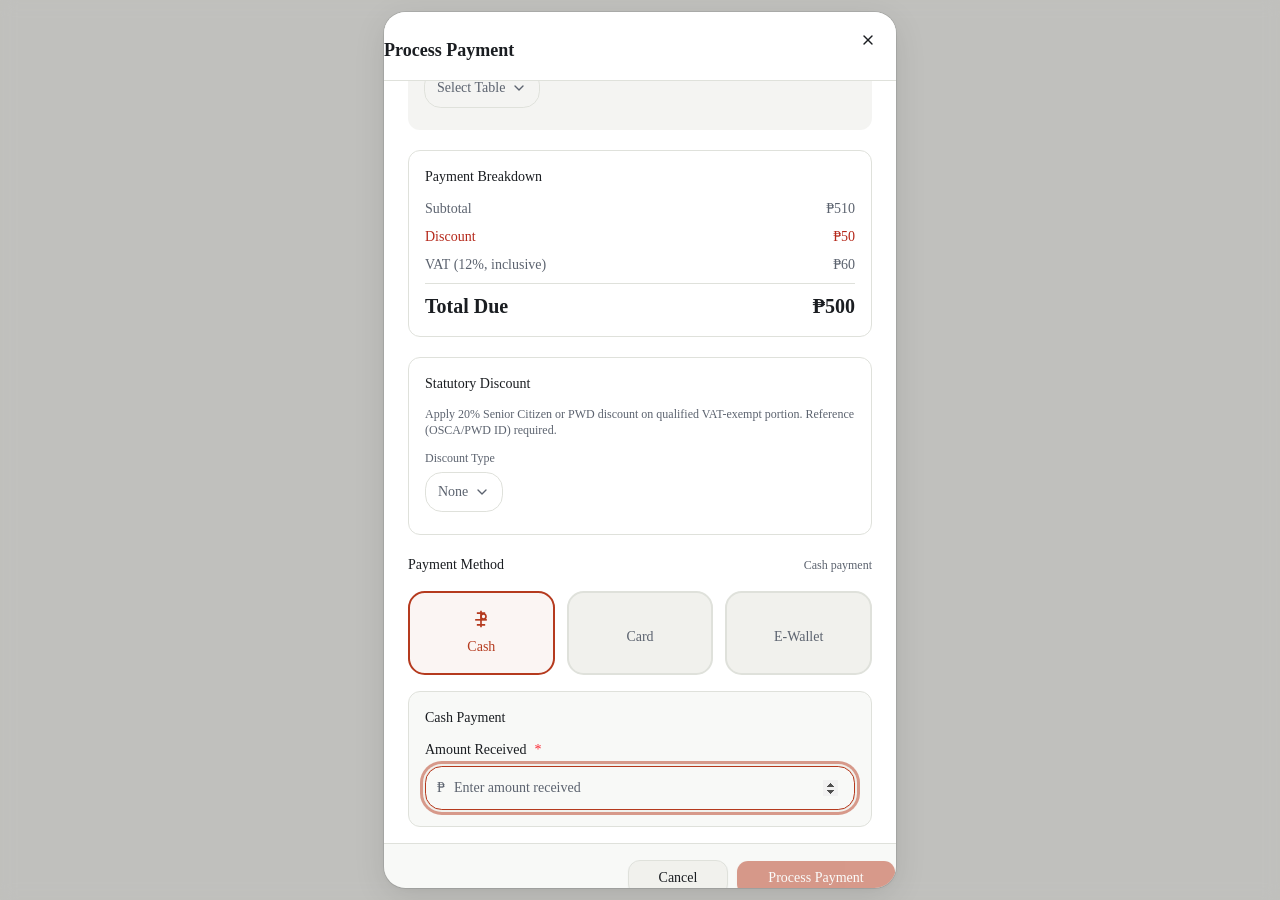
Scenario: PaymentDialog › blocks payment when amount is insufficient and shows validation
(page scrolled)
Step 1. Type "100" into the number field with placeholder "Enter amount received" → (640, 788), box [425,766,855,810]
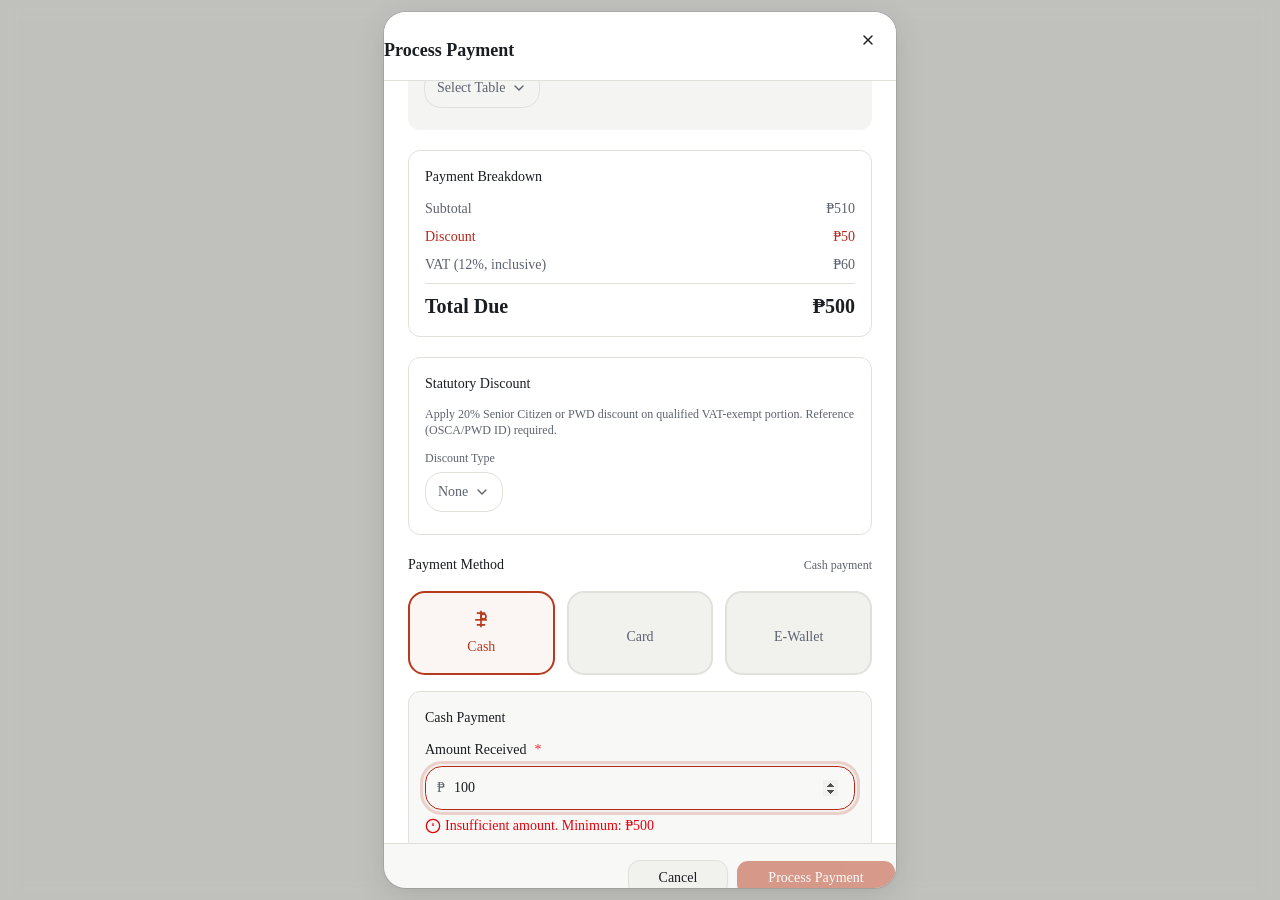
Expected: the button "Process Payment" is disabled, [736,860,896,888]
Expected: the text "Insufficient amount. Minimum: ₱500" is shown, [425,818,654,834]
